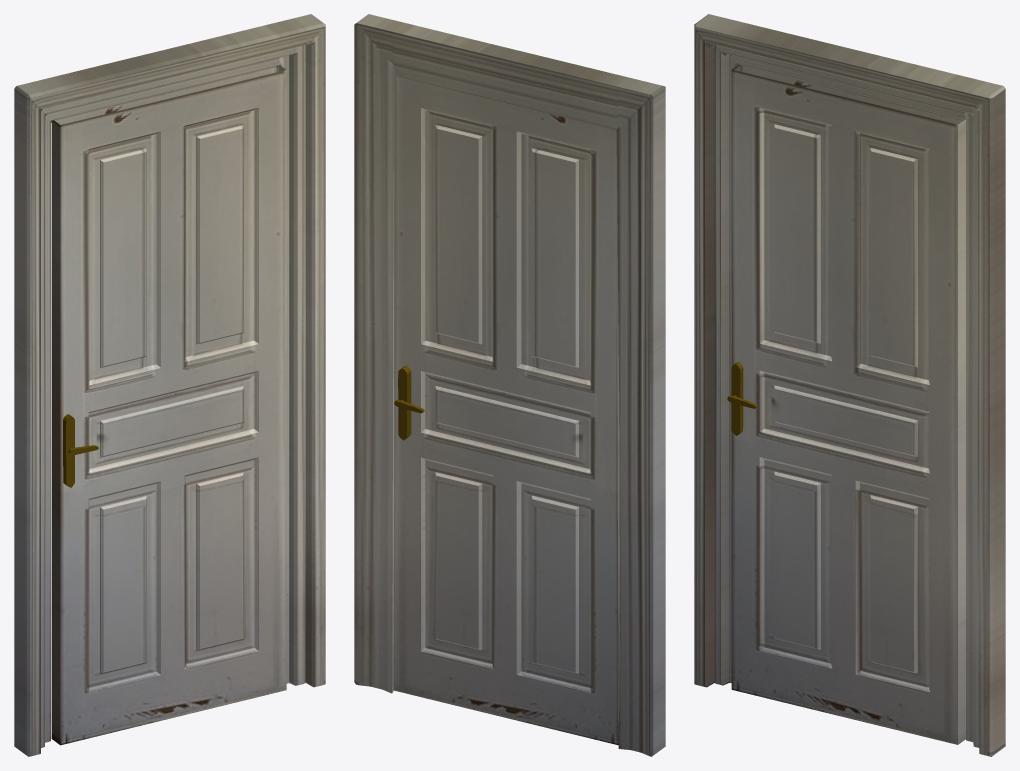
The model's file is door.glb.
The picture shows the model from 3 angles, left to right: view 1: azimuth 30°, elevation 25°; view 2: azimuth 150°, elevation 25°; view 3: azimuth 330°, elevation 25°; orthographic projection.
Parts seen in each view (by area): view 1: door, frame; view 2: door, frame; view 3: door, frame.
Boxes of the visible parts, x1,y1,x2,y2 form: door: (51, 65, 286, 745); frame: (14, 14, 325, 756); door: (393, 76, 618, 745); frame: (354, 14, 665, 756); door: (727, 64, 965, 744); frame: (694, 14, 1005, 756).
Bounding box in the file's own units: 2.18 × 4.6 × 0.3258.
Materials: 3 (2 with a texture image).
